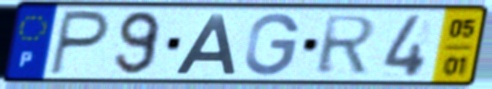4: (381, 12, 429, 80)
9: (112, 8, 164, 79)
A: (171, 12, 238, 76)
G: (242, 11, 303, 78)
P: (46, 8, 113, 78)
R: (314, 13, 381, 77)
